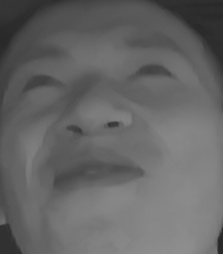eye: (15, 66, 64, 100), (126, 55, 176, 88)
mouth: (48, 153, 145, 201)
